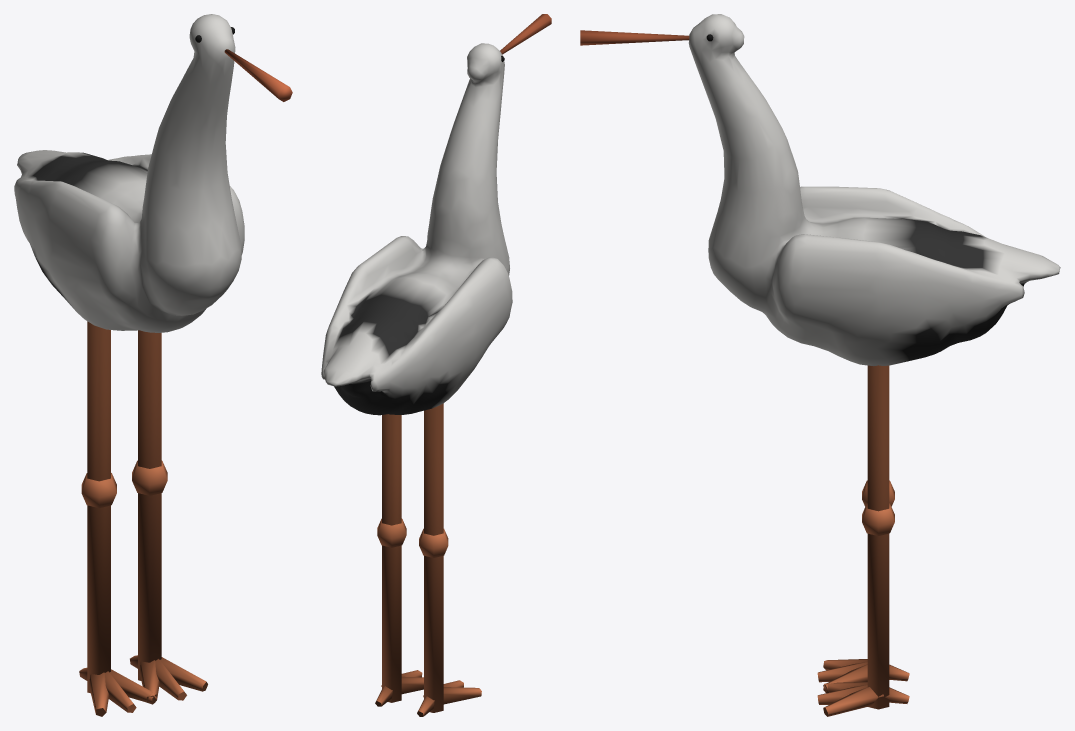
The model's file is storch.glb.
3 views of the same model, side by side, from view 1: azimuth 30°, elevation 25°; view 2: azimuth 150°, elevation 25°; view 3: azimuth 270°, elevation 25° (orthographic). The views are drawn at different scales.
Parts seen in each view (by area): view 1: lack; view 2: lack; view 3: lack.
Boxes of the visible parts, box(x1,y1,x2,y2) form: lack: box(14, 14, 292, 716); lack: box(321, 14, 551, 716); lack: box(580, 14, 1060, 716).
Size of the model in its own units: 0.2192 by 0.9952 by 0.6397.
